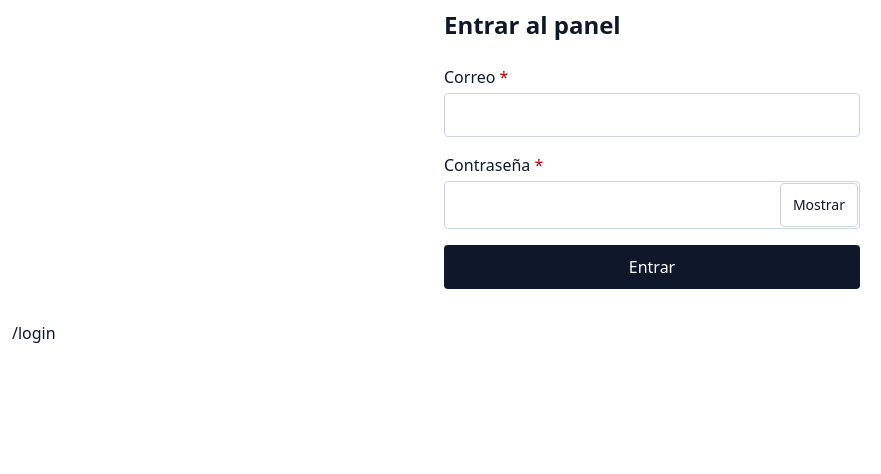
LoginPage › con la cuenta desactivada explica que el acceso está desactivado (US1 esc. 3)
In the field labelled "Correo *": (652,115) [444, 93, 860, 137], type "ana@ejemplo.com"
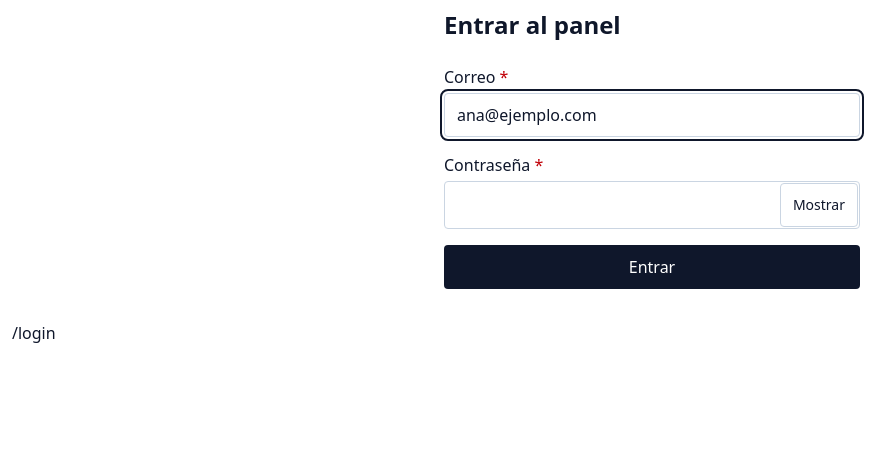
In the password field labelled "Contraseña *": (652,205) [444, 181, 860, 229], type "Secreta.123"
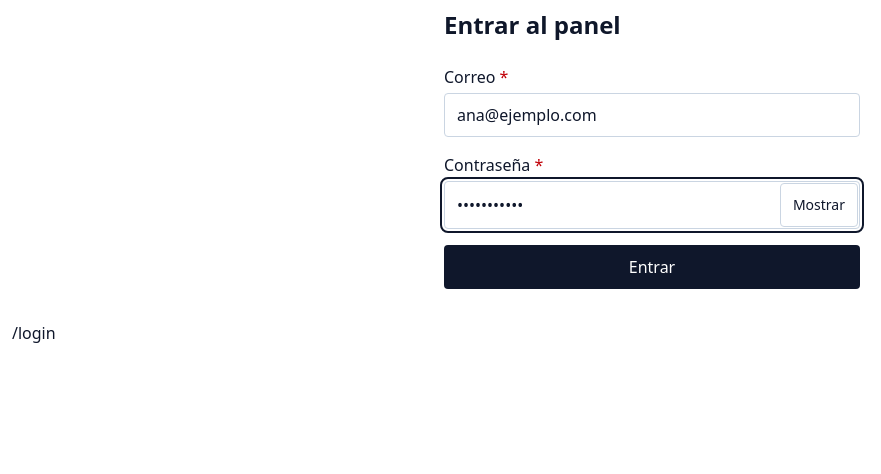
Click the button "Entrar": (652,267) [444, 245, 860, 289]
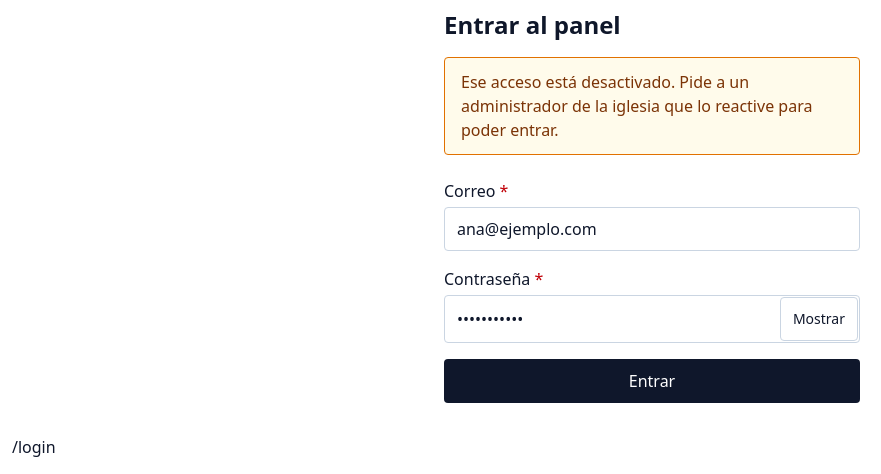
Expected: the message shows "Ese acceso está desactivado", [461, 71, 812, 141]
